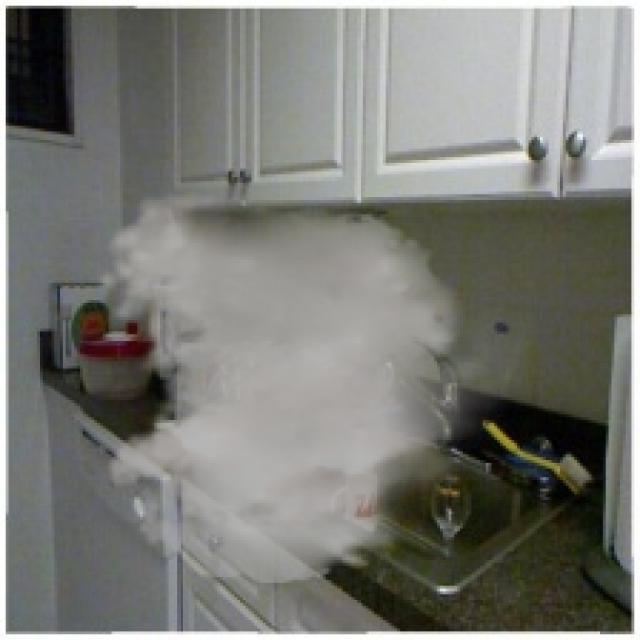Smoke: (94, 191, 517, 583)
